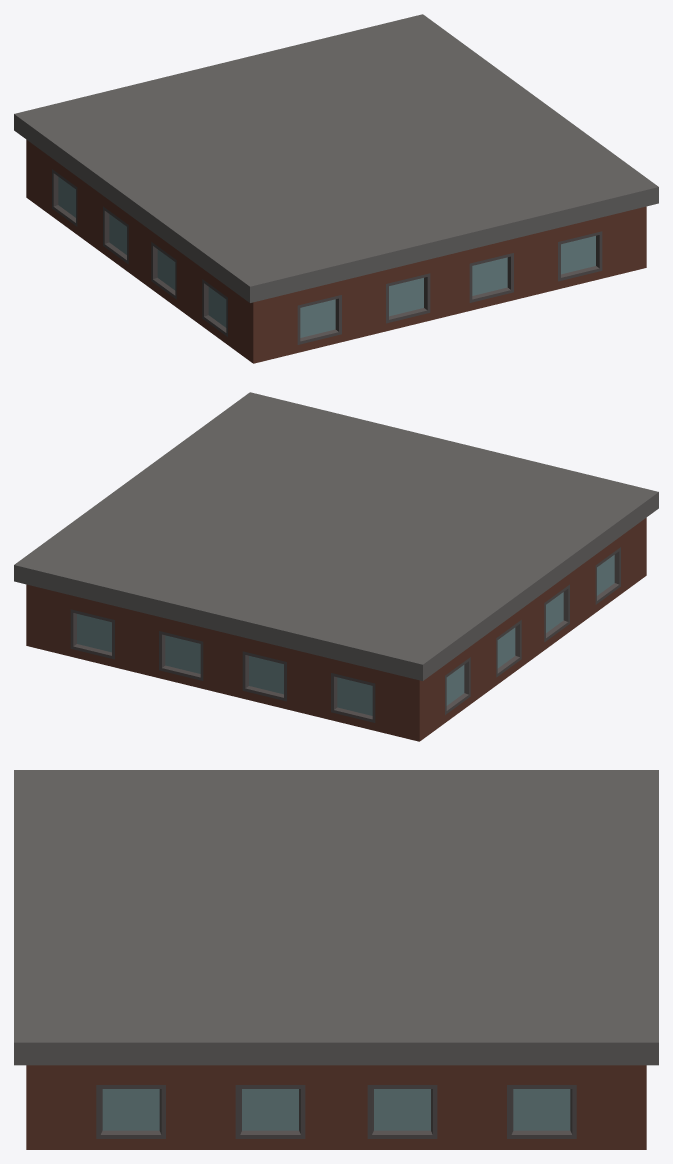
File: Building_Roof_S1.fbx
The picture shows the model from 3 angles, top to bottom: view 1: azimuth 30°, elevation 25°; view 2: azimuth 150°, elevation 25°; view 3: azimuth 270°, elevation 25°; orthographic projection. The views are drawn at different scales.
Visible parts, largest first — view 1: Building_Roof; view 2: Building_Roof; view 3: Building_Roof.
Boxes of the visible parts, x1,y1,x2,y2 form: Building_Roof: [14, 14, 658, 363]; Building_Roof: [14, 392, 658, 741]; Building_Roof: [14, 770, 658, 1149].
Size of the model in its own units: 2600 by 500 by 2600.
